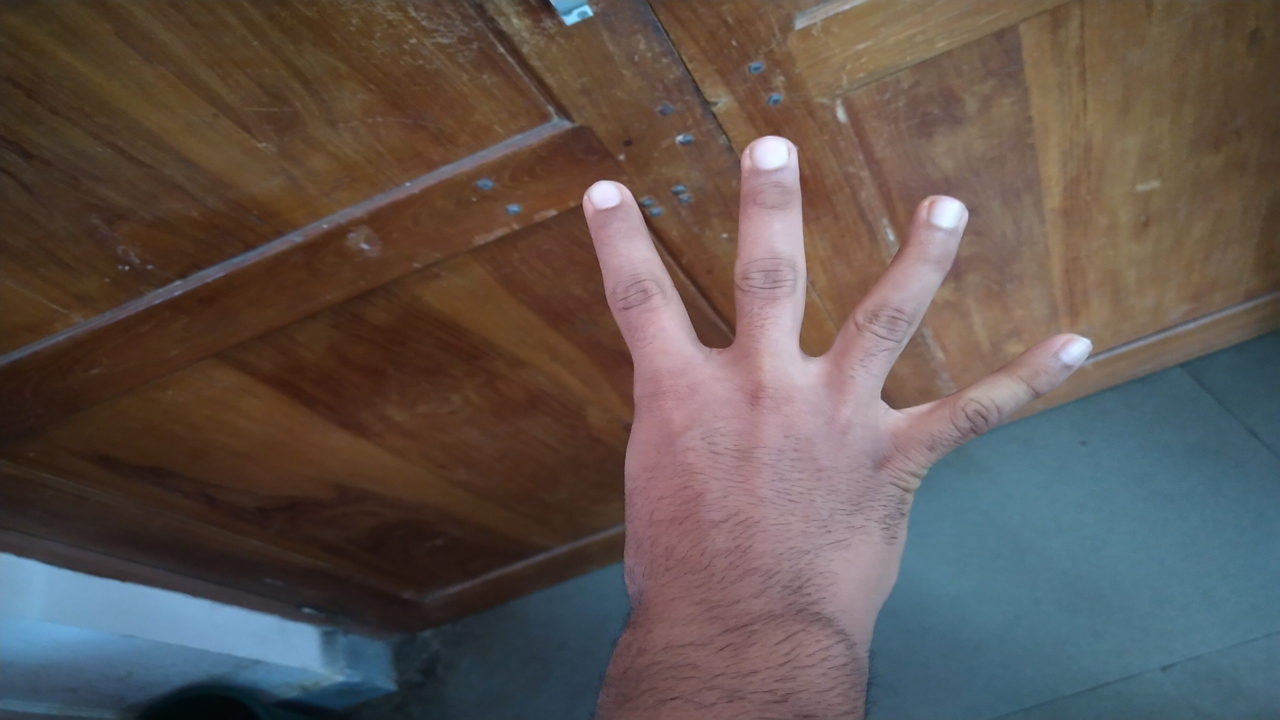fingertip: (574, 170, 640, 234), (740, 130, 806, 192), (1036, 322, 1106, 376), (912, 186, 976, 244)
